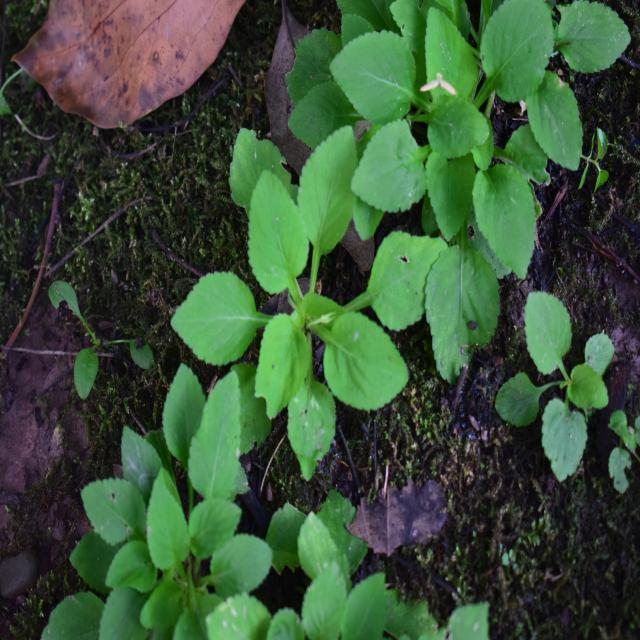Viola: (170, 126, 422, 438), (344, 14, 575, 288)
